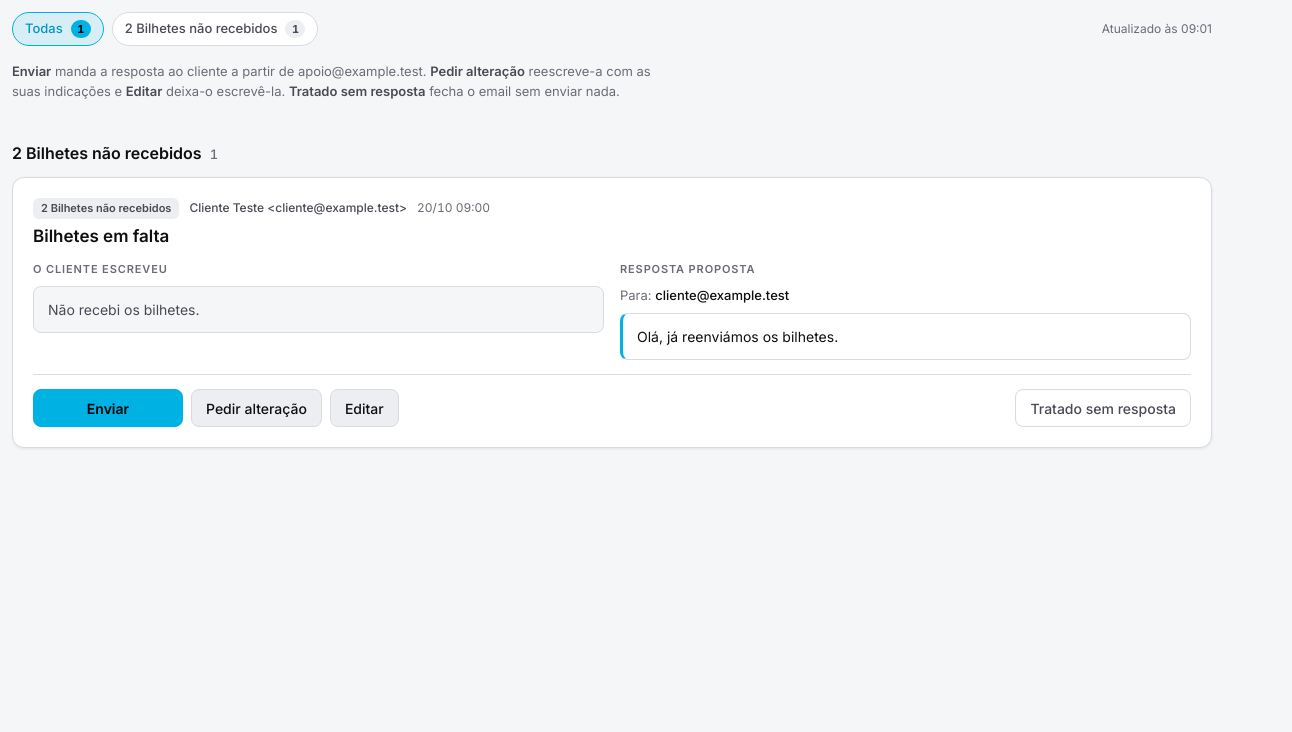
Scenario: Drafts › keeps the typed text in the edit box when the draft changed meanwhile (409)
Click the button "Editar" at [364, 408], box x1=330 y1=389 x2=399 y2=427
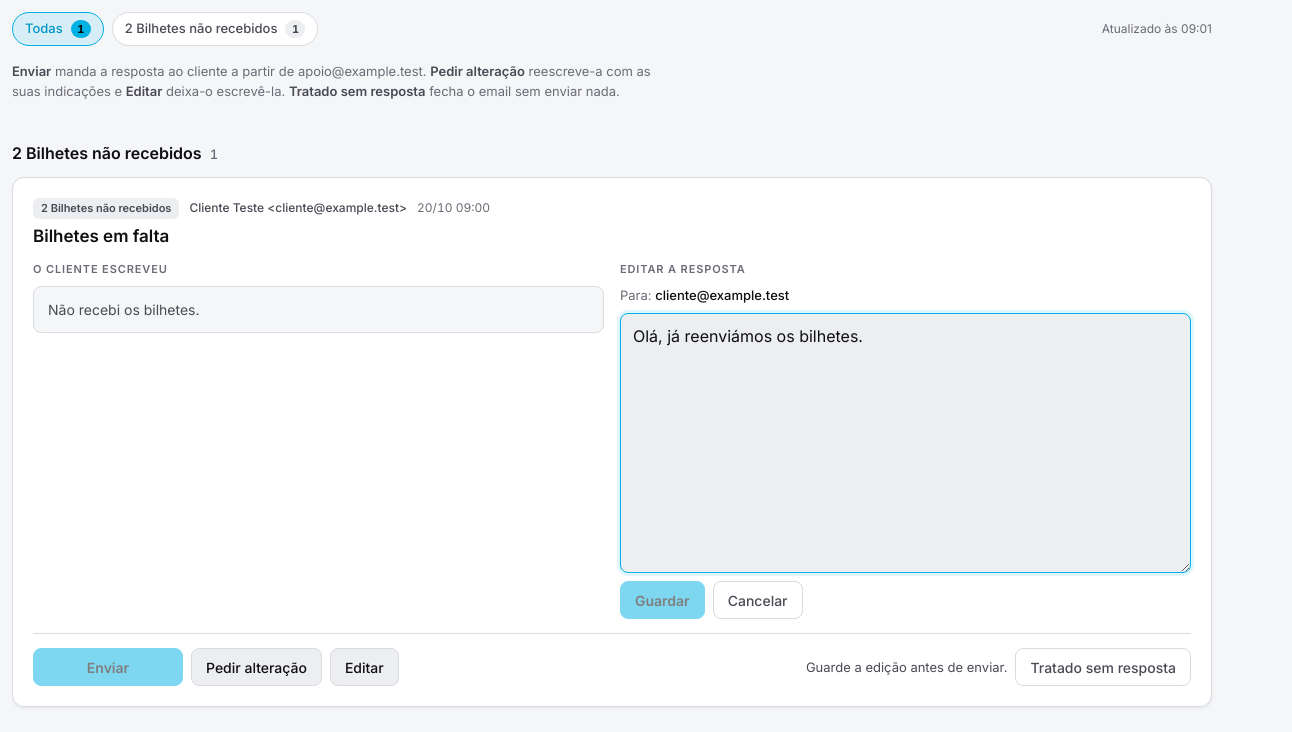
Replace the text in the text box named "Texto da resposta" with "O meu texto novo." at [906, 443], box x1=620 y1=313 x2=1191 y2=573
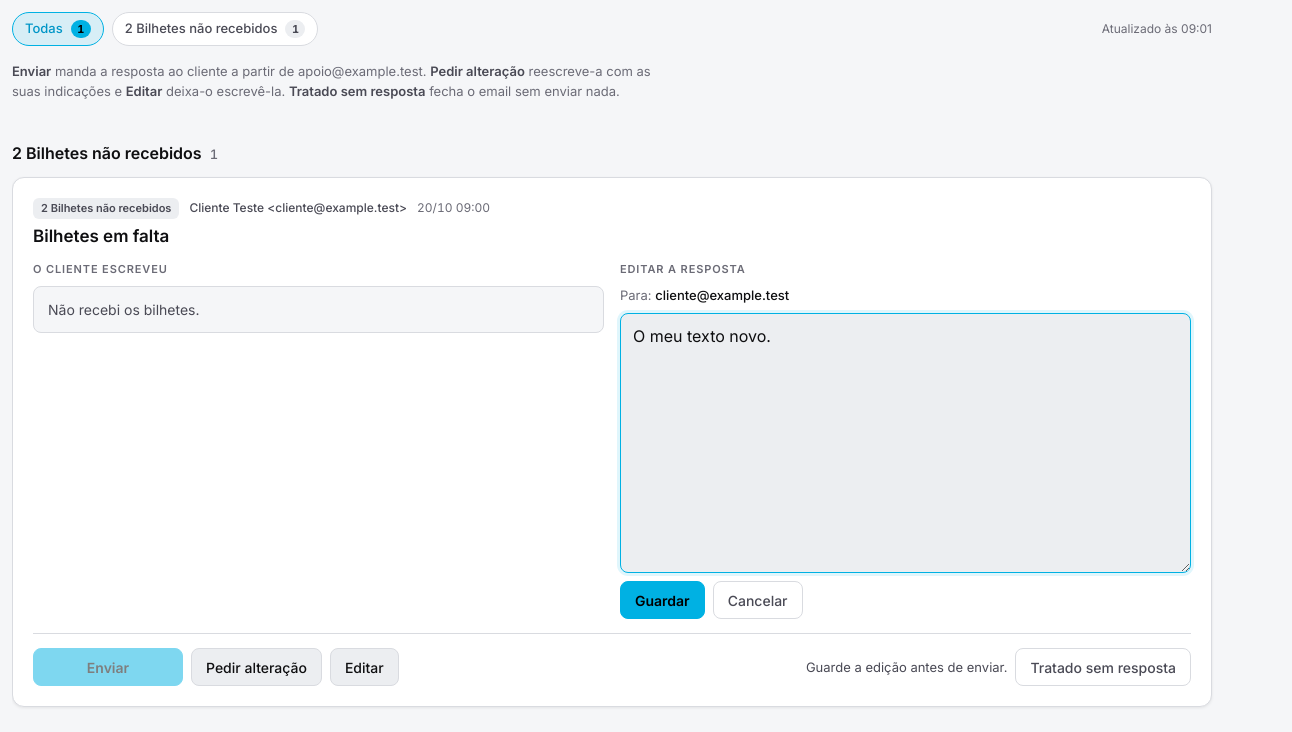
Click the button "Guardar" at [662, 600], box x1=620 y1=581 x2=705 y2=619
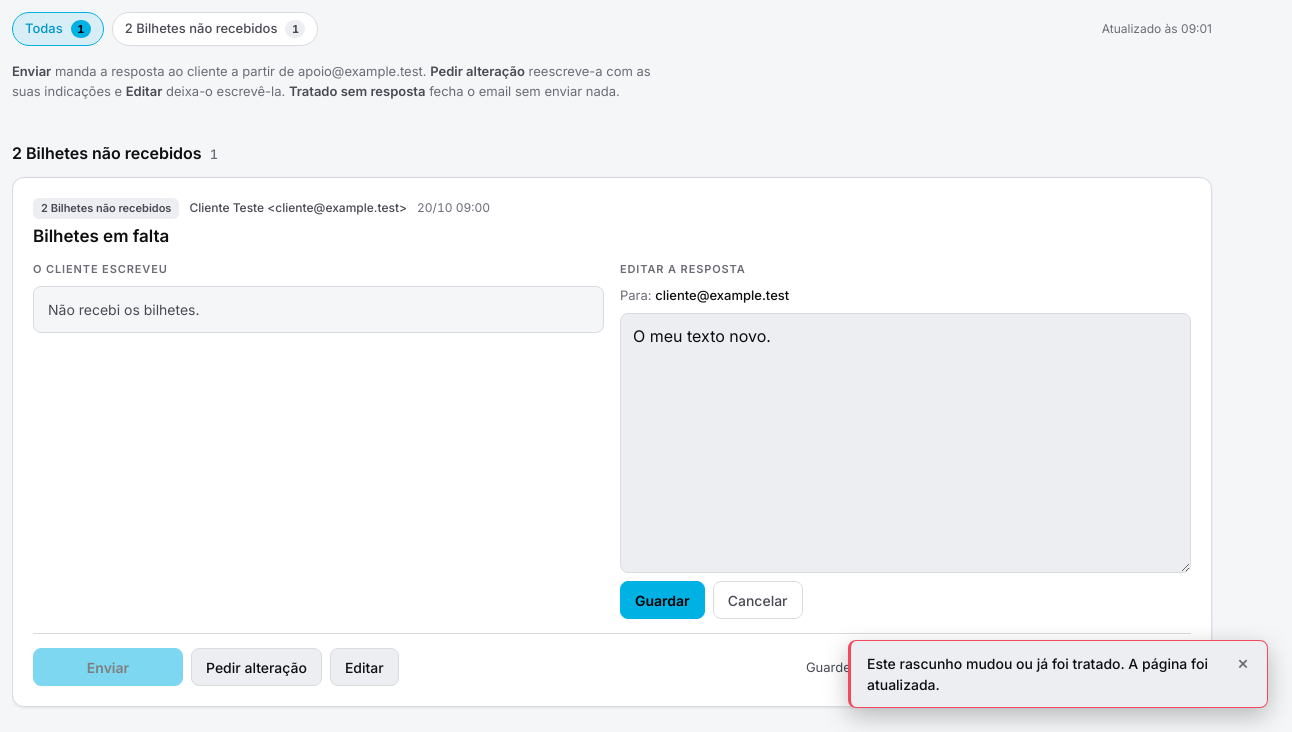
Expected: the text "Este rascunho mudou ou já foi tratado. A página foi atualizada." is shown, x1=867 y1=653 x2=1219 y2=695
